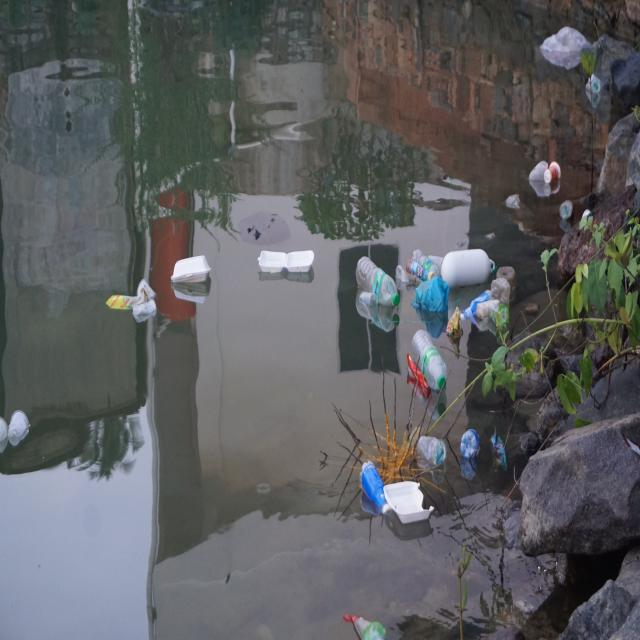Botol Plastik: (415, 323, 451, 399), (359, 453, 392, 524), (356, 256, 398, 308), (462, 289, 495, 326), (407, 258, 438, 290), (413, 245, 441, 279), (497, 265, 523, 301), (462, 424, 482, 462), (493, 279, 514, 310)
Bungkus Makanan: (257, 236, 321, 284), (385, 470, 434, 532), (167, 255, 218, 292), (407, 353, 432, 402), (108, 291, 147, 315), (449, 309, 464, 344)
Bungkus Minuman: (416, 433, 448, 469), (10, 409, 33, 450), (490, 301, 510, 332), (138, 277, 159, 303), (545, 160, 563, 187), (560, 198, 575, 222), (589, 74, 603, 95)
Kantong Plastik: (541, 27, 593, 76), (414, 279, 452, 317), (503, 191, 530, 225), (530, 160, 549, 184)
